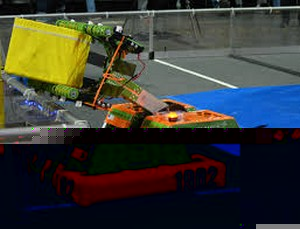cube: (2, 17, 90, 89)
